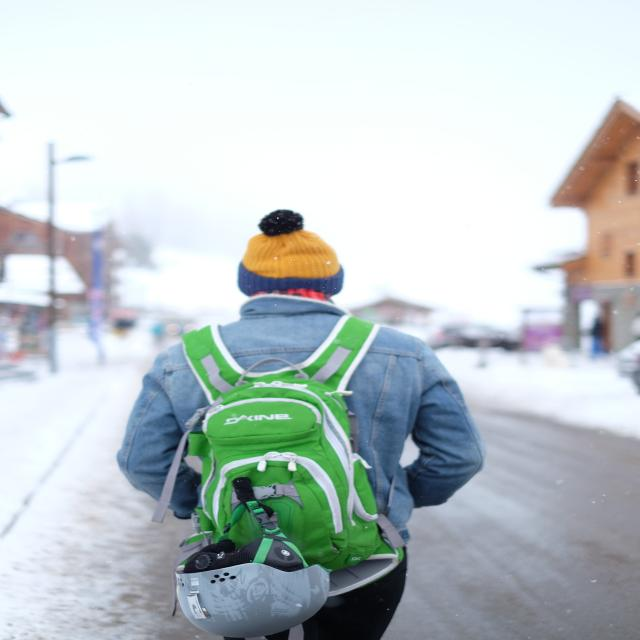backpack: (161, 319, 411, 588)
